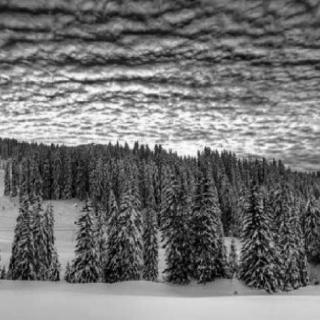Cirrocumulus: (0, 0, 320, 155)
